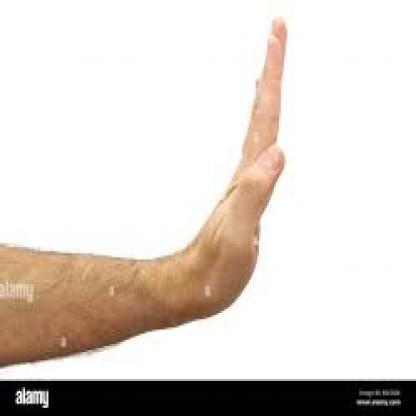stop: (190, 9, 290, 324)
